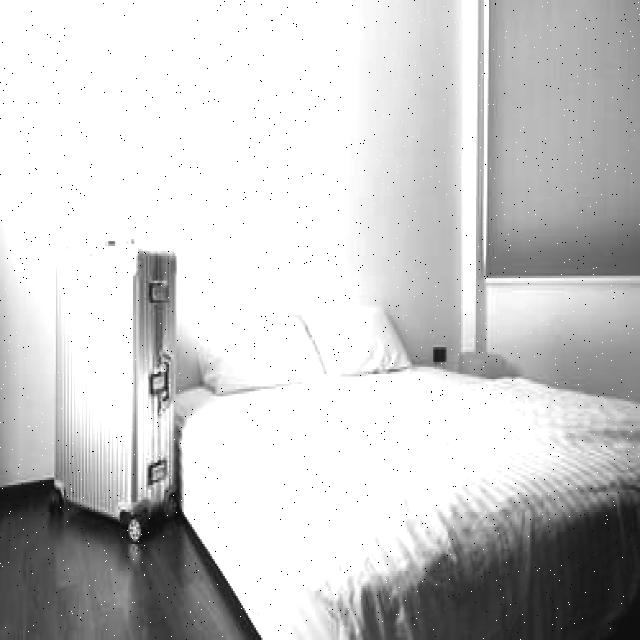bed: (172, 306, 638, 624)
